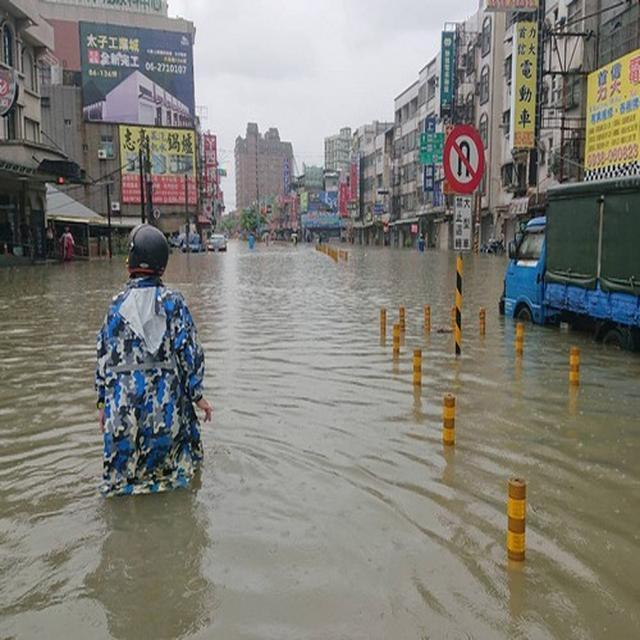Car-RiskLevel2: (498, 172, 640, 357)
Person-RiskLevel2: (90, 215, 224, 500)
